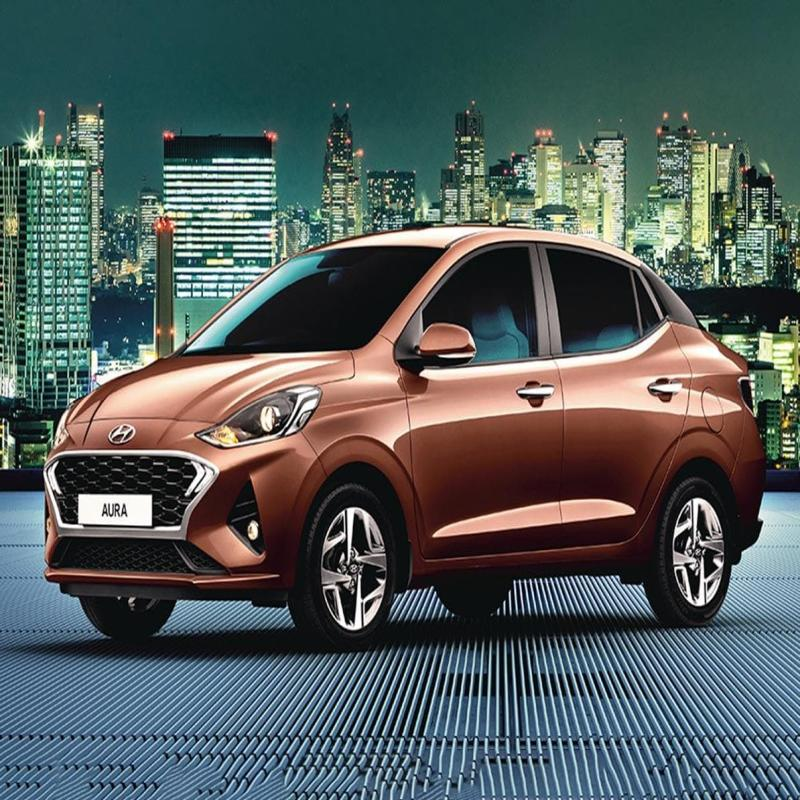car: (32, 215, 769, 655)
